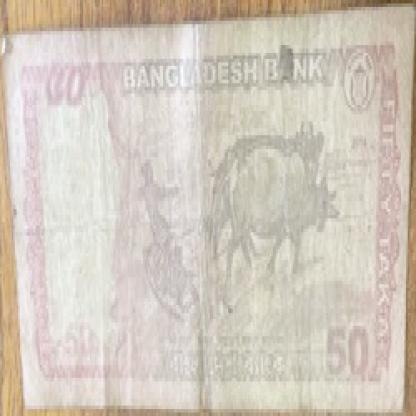Fifty taka: (310, 316, 372, 388), (43, 62, 92, 122)
